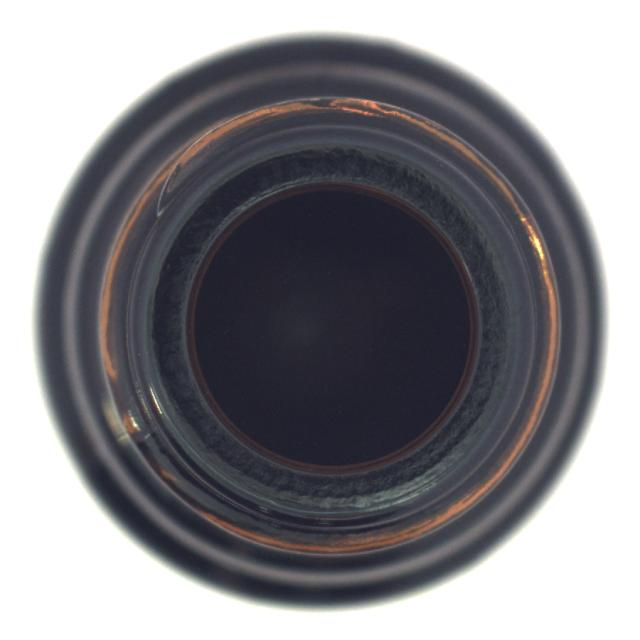bottle-good: (32, 32, 597, 606)
